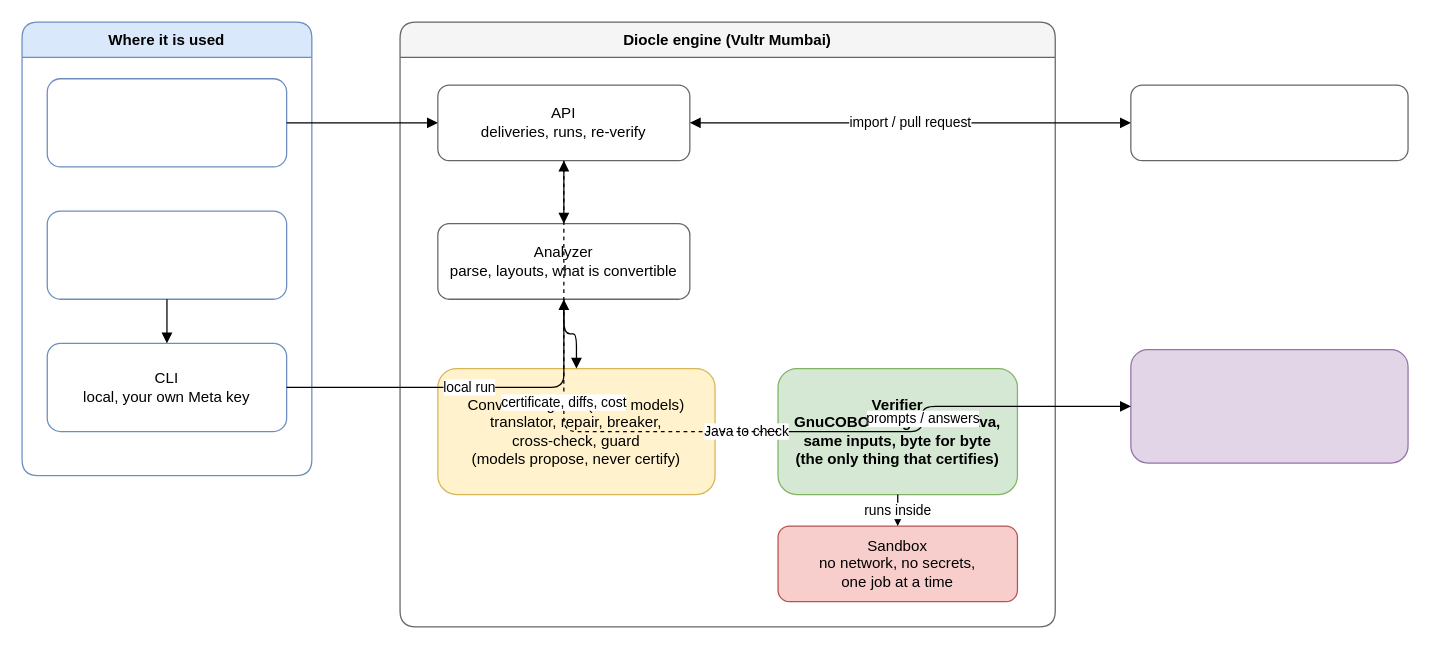
The diagram is 1430 pixels wide and 649 high, and some of its shapes have lost their labels. The centre of each missing label's shape, as x and y in pixels:
"GitHub repo import, pull request" goes at (1269,122).
"Meta Model API Muse Spark tiers, Muse Wonder Muse Spark Open (partner host)" goes at (1269,405).
"VS Code extension check + convert, local" goes at (166,254).
"Web app (Vercel) runs, mission replay, evidence, import" goes at (166,122).
